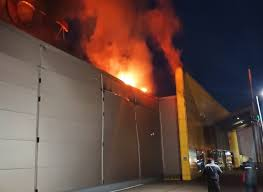fire: (68, 17, 186, 107)
